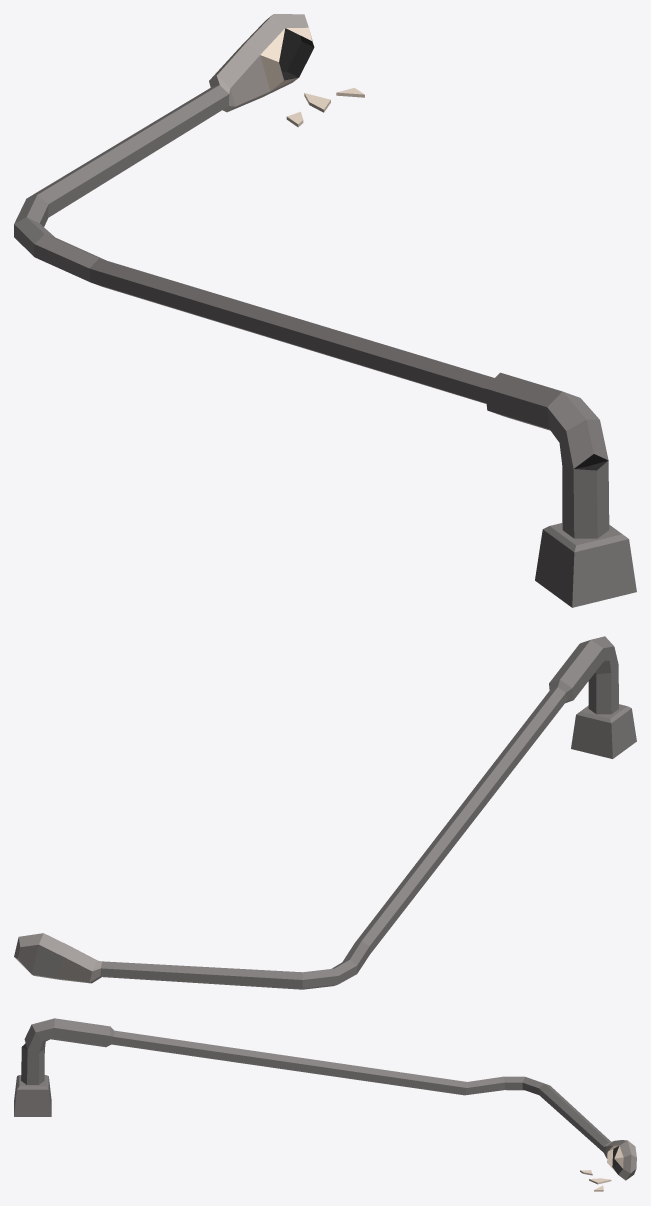
The model's file is apocalypse_lamp-road-apocalypse-c.fbx.
3 views of the same model, one above another, from view 1: azimuth 30°, elevation 25°; view 2: azimuth 150°, elevation 25°; view 3: azimuth 270°, elevation 25° (orthographic). The views are drawn at different scales.
Visible parts, largest first — view 1: apocalypse_lamp_road_apocalypse_c; view 2: apocalypse_lamp_road_apocalypse_c; view 3: apocalypse_lamp_road_apocalypse_c.
Part boxes in pixels (x1,y1,x2,y2): apocalypse_lamp_road_apocalypse_c: [14, 14, 636, 607]; apocalypse_lamp_road_apocalypse_c: [14, 636, 636, 989]; apocalypse_lamp_road_apocalypse_c: [14, 1018, 636, 1191].
Size of the model in its own units: 78.57 by 32.14 by 200.
